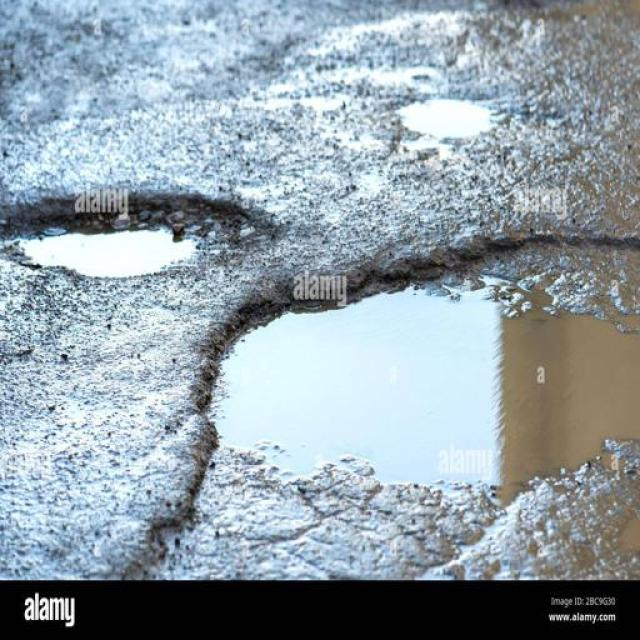puddle: (246, 300, 637, 479), (34, 222, 192, 280), (411, 100, 483, 135)
